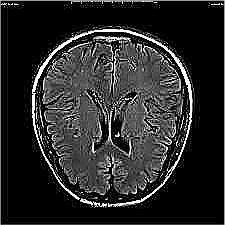Normal_Brain: (8, 2, 225, 225)
